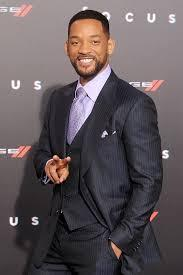Persons: (62, 8, 121, 83)
